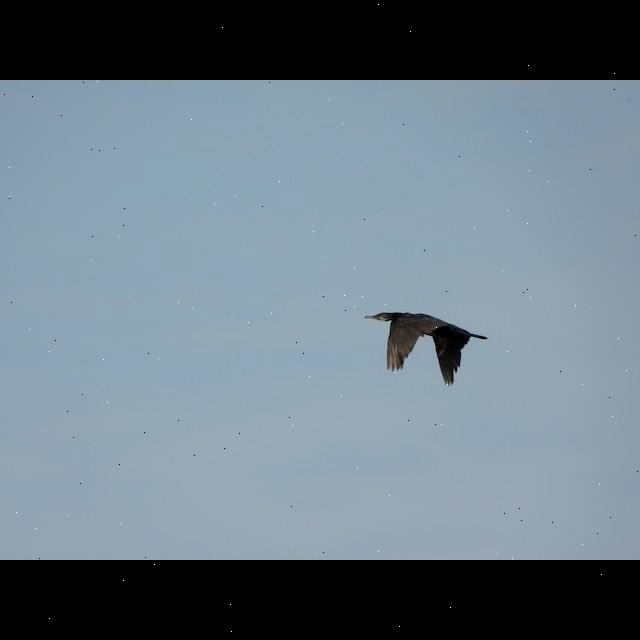cormorant: (358, 304, 498, 388)
